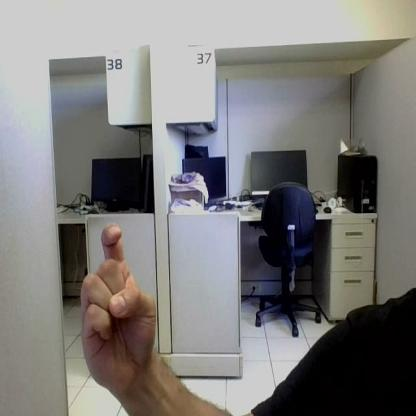X: (80, 223, 156, 389)
